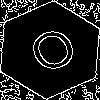O: (25, 25, 86, 84)
